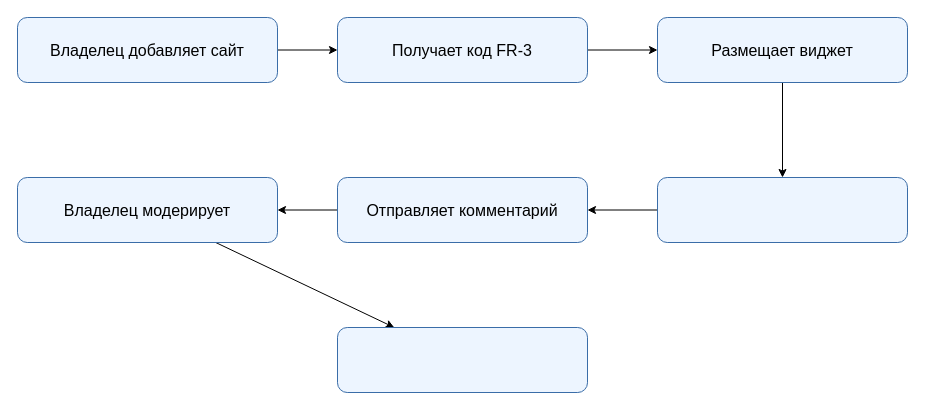
The diagram is 925 pixels wide and 410 high, and some of its shapes have lost their labels. Here are the shapes that lost their labels. From the top down, the centre of each, then its label:
the point at 782,209: Посетитель открывает страницу
the point at 462,359: Результат виден по статусу
